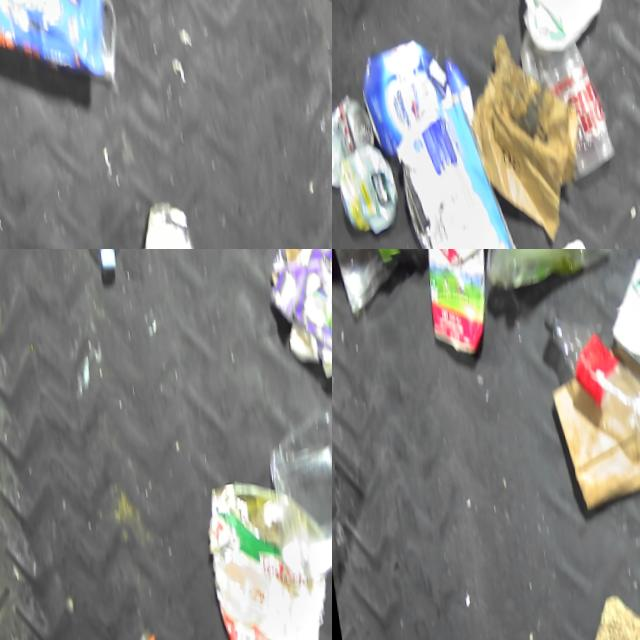can: (191, 473, 329, 640), (332, 139, 398, 237), (596, 250, 640, 387), (332, 95, 373, 186)
milk_jug: (500, 0, 621, 55)
non_white_jug: (412, 249, 520, 359)
plastic_bottle: (535, 285, 640, 453), (124, 617, 208, 640)
